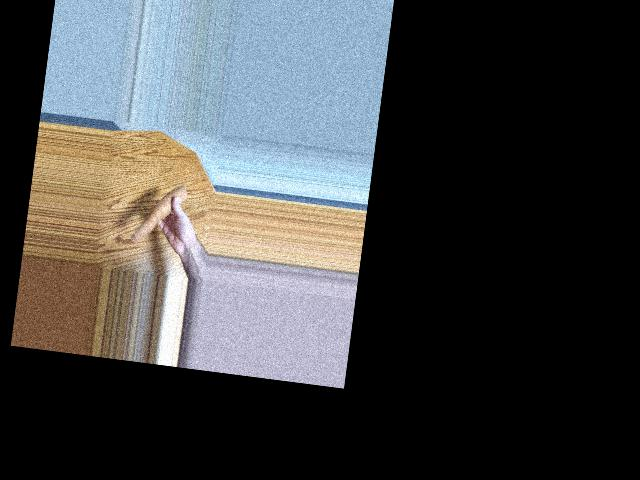sweet_potato: (132, 185, 189, 248)
